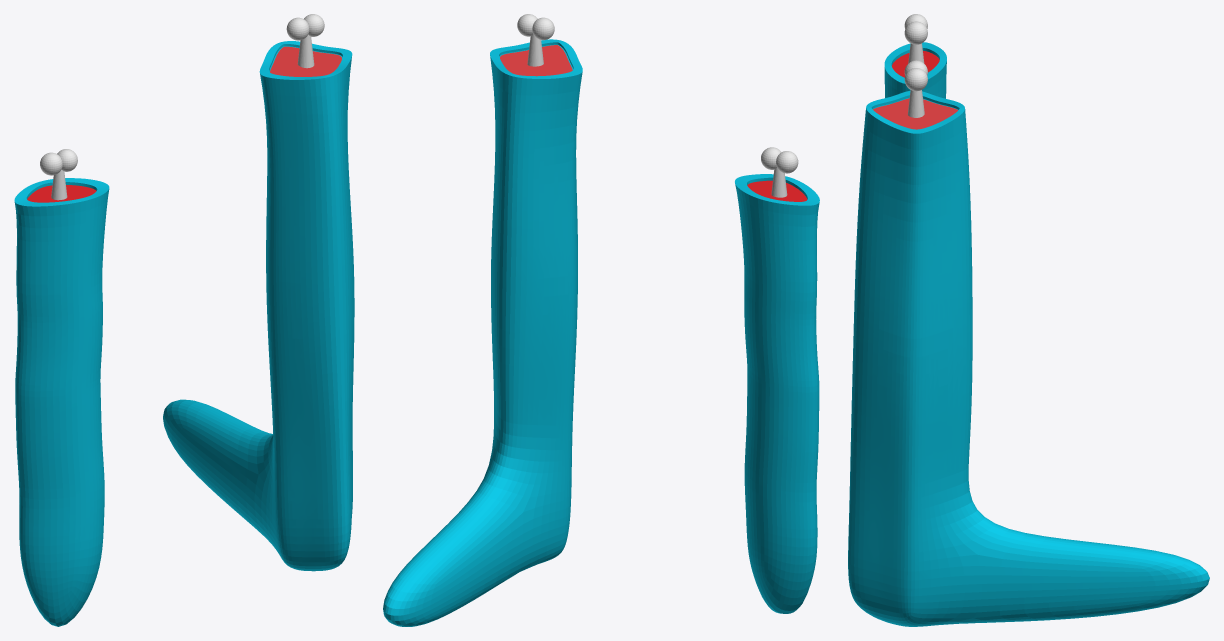
Rendered from BodyPieces.fbx.
The picture shows the model from 3 angles, left to right: view 1: azimuth 30°, elevation 25°; view 2: azimuth 150°, elevation 25°; view 3: azimuth 270°, elevation 25°; orthographic projection. The views are drawn at different scales.
Visible parts, largest first — view 1: Leg, Hand; view 2: Leg, Hand; view 3: Leg, Hand.
Part boxes in pixels (left/top/right/bottom): Leg: left=163, top=41, right=354, bottom=571; Hand: left=14, top=178, right=109, bottom=626; Leg: left=383, top=39, right=582, bottom=626; Hand: left=735, top=174, right=819, bottom=613; Leg: left=848, top=91, right=1209, bottom=626; Hand: left=884, top=42, right=946, bottom=98.
Size of the model in its own units: 146 by 230 by 136.
